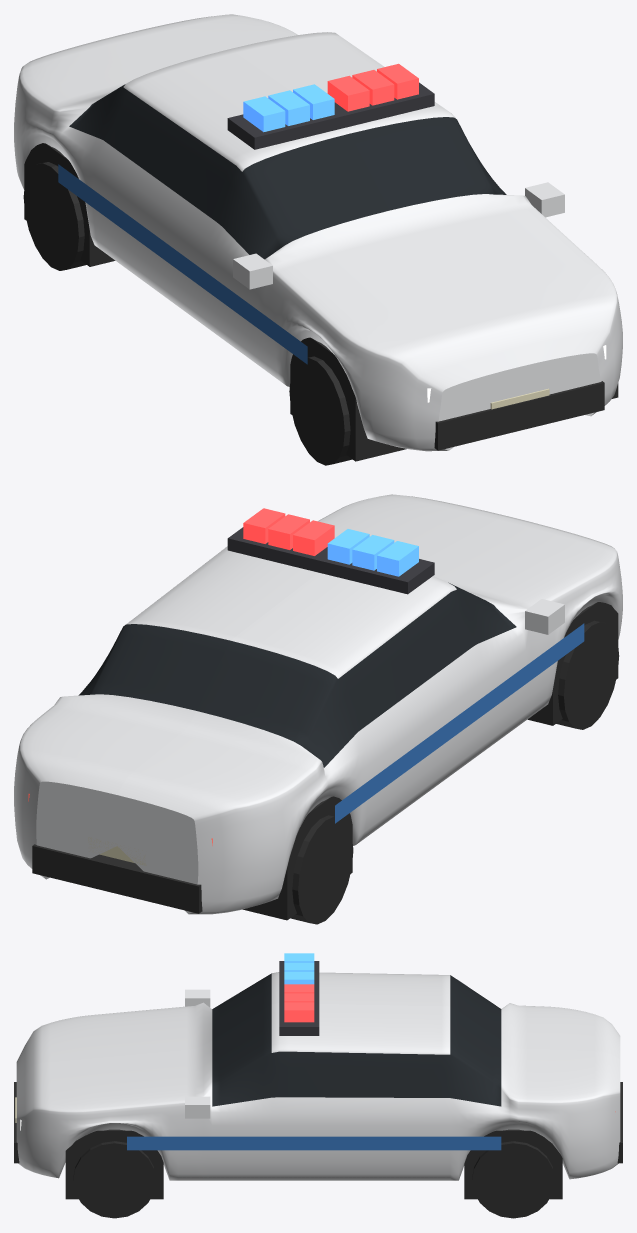
File: policia.gltf
3 renders of one model, top to bottom at view 1: azimuth 30°, elevation 25°; view 2: azimuth 150°, elevation 25°; view 3: azimuth 270°, elevation 25°, orthographic. The views are drawn at different scales.
Parts seen in each view (by area): view 1: carro; view 2: carro; view 3: carro.
Boxes of the visible parts, x1,y1,x2,y2 form: carro: (14, 14, 622, 465); carro: (14, 494, 622, 924); carro: (14, 953, 622, 1218).
Size of the model in its own units: 2.17 by 1.63 by 4.84.
